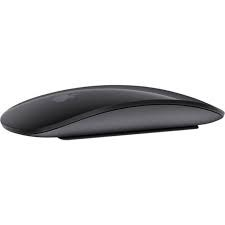mouse: (0, 84, 223, 149)
